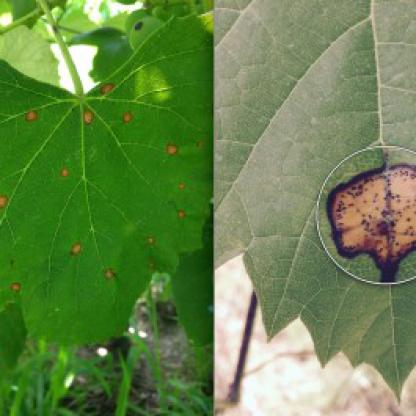grape leaf black rot: (2, 14, 213, 375)
